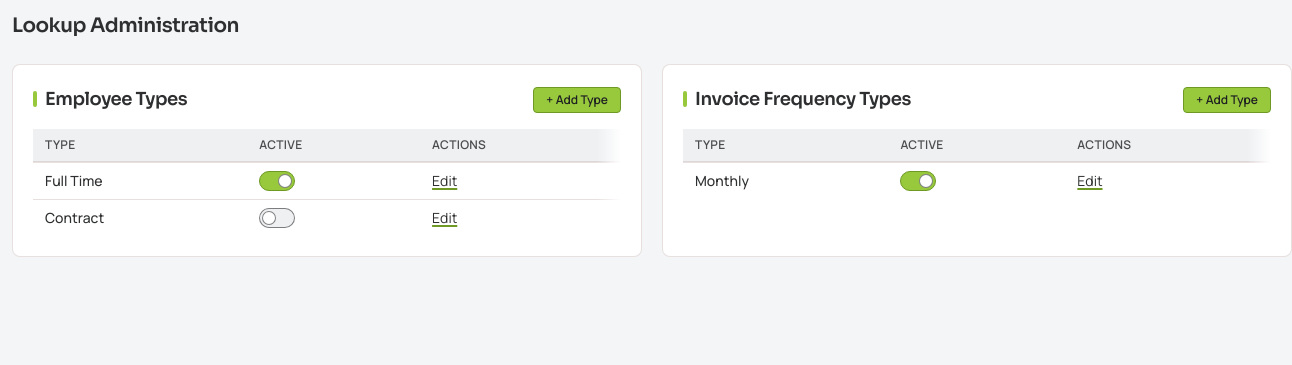
Test: LookupAdminPage › offers no add field until Add is pressed, and hides it again on cancel
This screenshot has width=1292, height=365.
Check: the cell "Full Time" is shown, box [33,163,247,200]
Check: the field labelled "new employee type name" is not shown
Click the button "+ Add Type" in the row of "Employee Types".
click(577, 100)  # box [533,86,621,112]
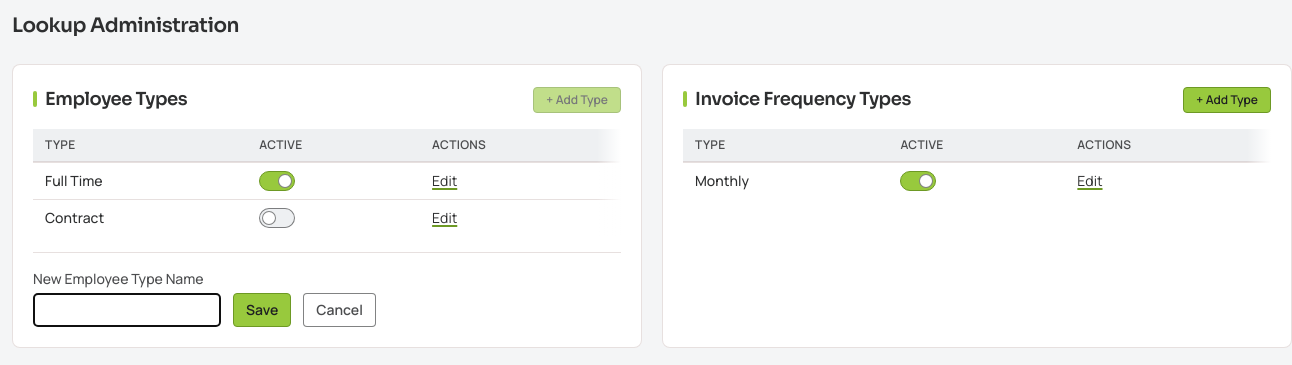
Check: the field labelled "New Employee Type Name" is shown, box [33,293,221,327]
Click the button named "cancel adding an employee type".
click(340, 310)  # box [303,293,376,327]
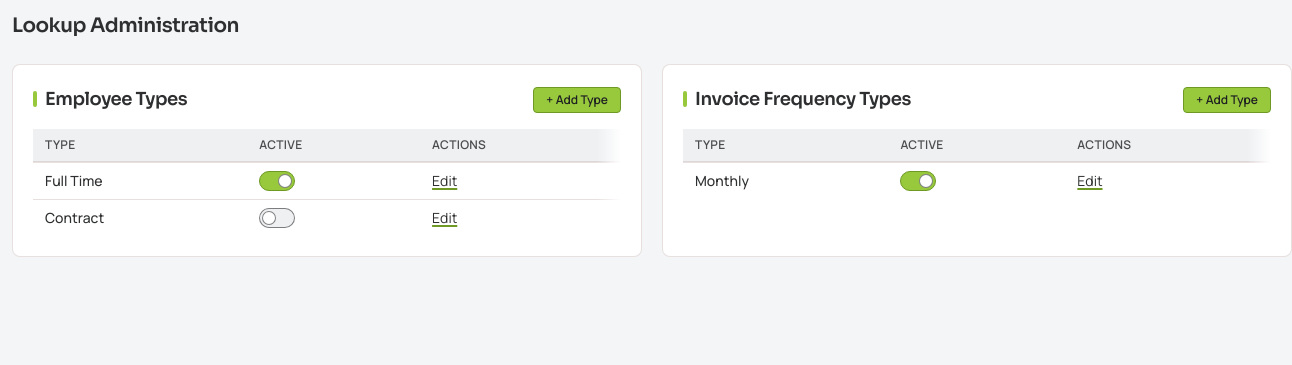
Check: the label labelled "New Employee Type Name" is gone
